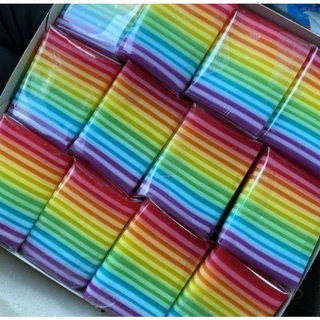kue_lapis_pelangi: (133, 103, 266, 238), (15, 158, 143, 292), (67, 58, 191, 191), (85, 197, 213, 320), (216, 148, 320, 286), (9, 25, 118, 149)
